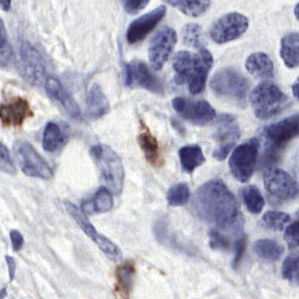Lymphocyte: (136, 128, 165, 168)
